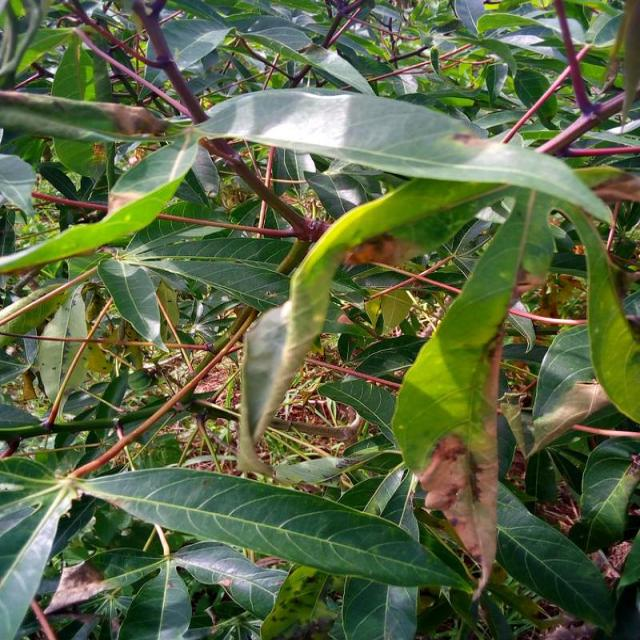cassava leaf: (0, 2, 638, 637), (181, 85, 613, 223), (76, 464, 472, 595)
